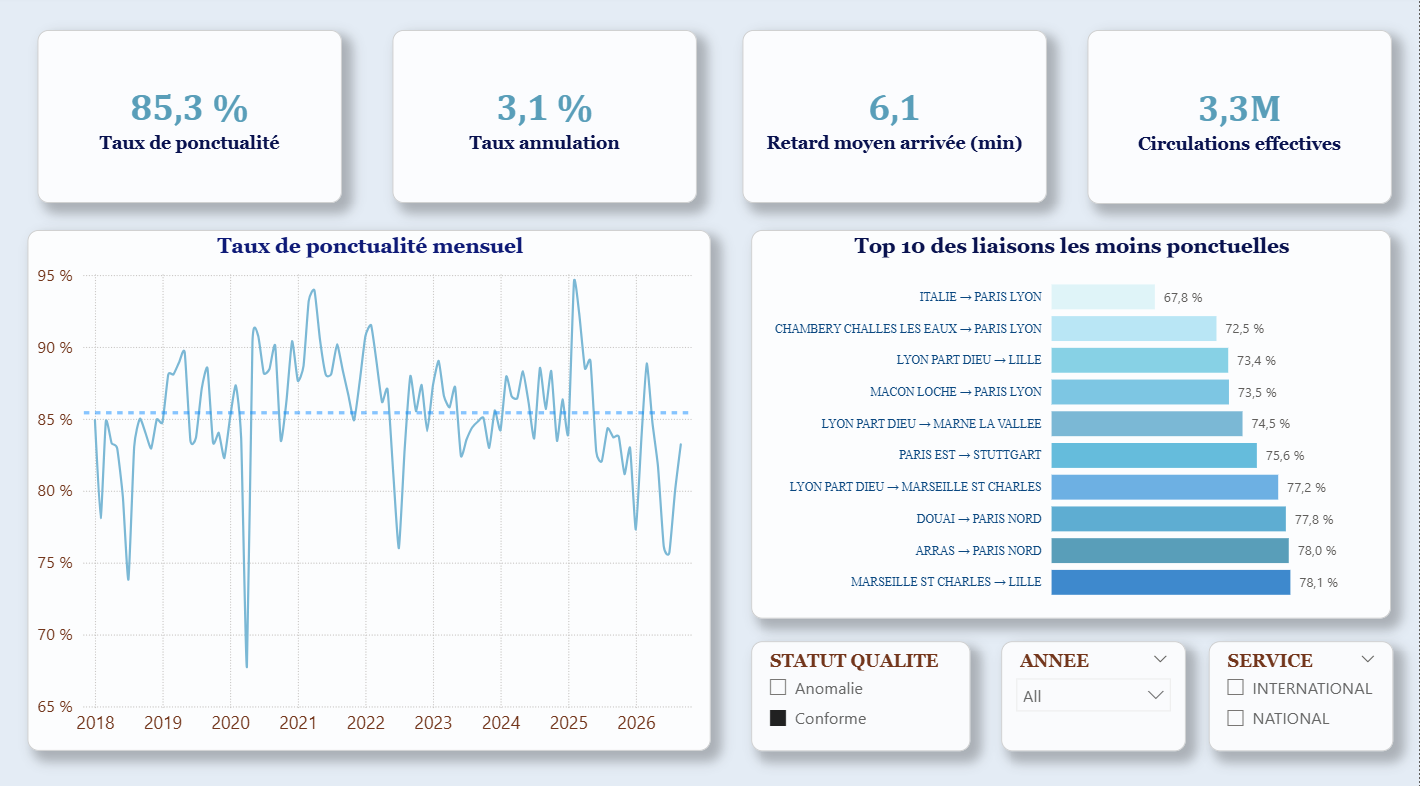

What the dashboard file says about the page in this screenshot:
{"tool":"powerbi","page":{"name":"Transport_Ponctuality","canvas":[1280,720],"ordinal":0},"visuals":[{"type":"card","fields":{"Values":["FACT_REGULARITE.Taux ponctualité"]},"box":[33.7,31.4,274.4,155.8],"z":0},{"type":"card","fields":{"Values":["FACT_REGULARITE.Taux annulation"]},"box":[353.5,31.4,274.4,155.8],"z":1000},{"type":"card","fields":{"Values":["FACT_REGULARITE.Retard moyen arrivée (min)"]},"box":[669.8,31.4,274.4,155.8],"z":2000},{"type":"card","fields":{"Values":["FACT_REGULARITE.Circulations effectives"]},"box":[980.2,31.4,274.4,157],"z":3000},{"type":"lineChart","title":"Taux de ponctualité mensuel","fields":{"Y":["FACT_REGULARITE.Taux ponctualité"],"Category":["DIM_DATE.MOIS"]},"box":[24.4,211.6,616.3,469.8],"z":4000},{"type":"clusteredBarChart","title":"Top 10 des liaisons les moins ponctuelles","fields":{"Category":["V_KPI_LIAISON.LIAISON"],"Y":["Avg(V_KPI_LIAISON.TAUX_PONCTUALITE)"]},"box":[677.9,211.6,576.7,350],"z":5000},{"type":"slicer","fields":{"Values":["DIM_DATE.ANNEE"]},"box":[902.3,582.6,166.3,98.8],"z":6000},{"type":"slicer","fields":{"Values":["DIM_SERVICE.SERVICE"]},"box":[1089.5,582.6,166.3,98.8],"z":7000},{"type":"slicer","fields":{"Values":["FACT_REGULARITE.Statut qualité"]},"box":[677.9,582.6,197.7,98.8],"z":8000}]}

Visuals, with their boxes in screenshot pixels (x1, y1, x2, y2), scaled from the page's 1280x720 canvas onto the 1420x786 screenshot:
card - FACT_REGULARITE.Taux ponctualité: 37, 34, 342, 204
card - FACT_REGULARITE.Taux annulation: 392, 34, 697, 204
card - FACT_REGULARITE.Retard moyen arrivée (min): 743, 34, 1047, 204
card - FACT_REGULARITE.Circulations effectives: 1087, 34, 1392, 206
"Taux de ponctualité mensuel" lineChart: 27, 231, 711, 744
"Top 10 des liaisons les moins ponctuelles" clusteredBarChart: 752, 231, 1392, 613
slicer - DIM_DATE.ANNEE: 1001, 636, 1185, 744
slicer - DIM_SERVICE.SERVICE: 1209, 636, 1393, 744
slicer - FACT_REGULARITE.Statut qualité: 752, 636, 971, 744
